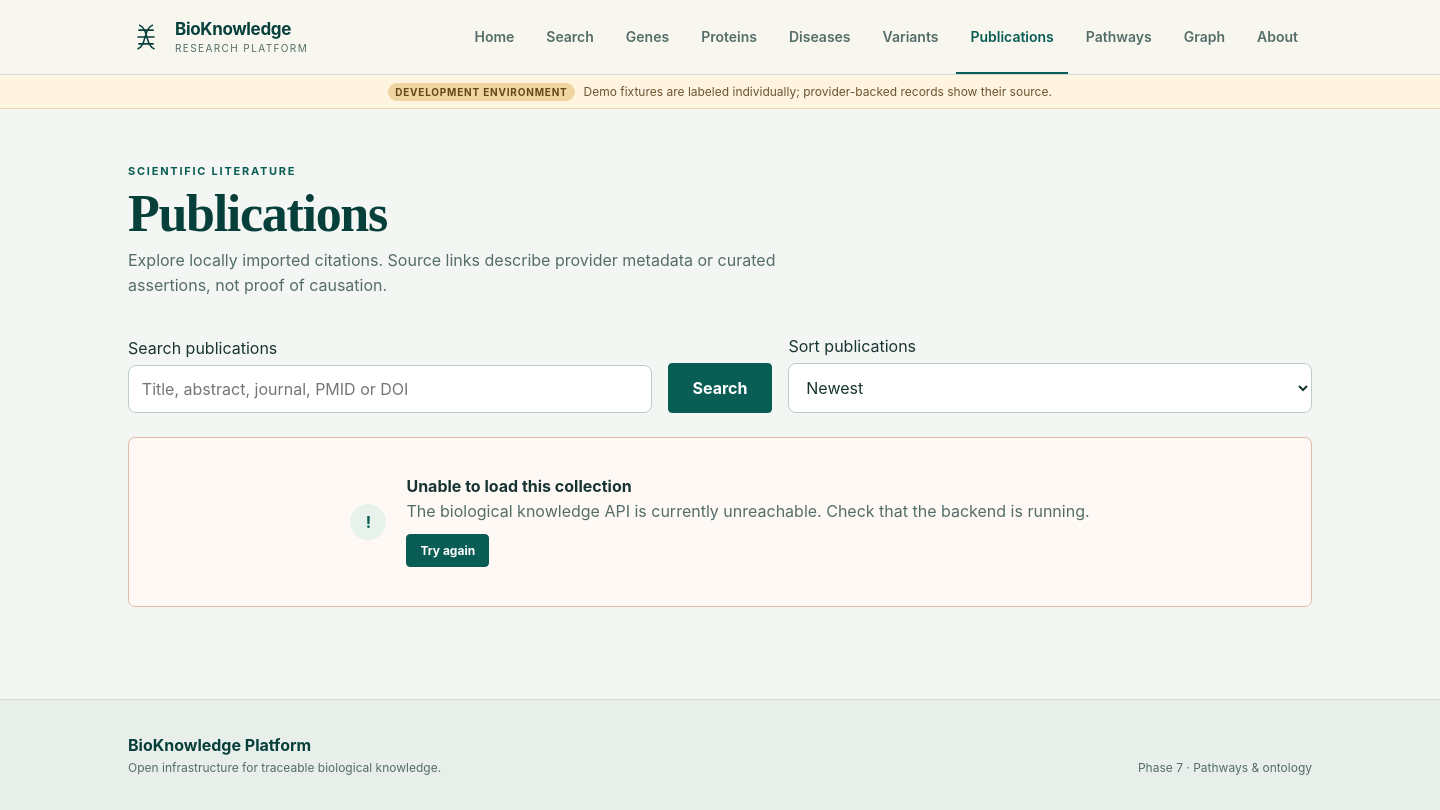
Test: publication empty and failure states are actionable
Check: the text "Unable to load this collection" is shown, box [406,476,632,496]
Click the button "Try again" at (448, 551), box [406,534,489,567]
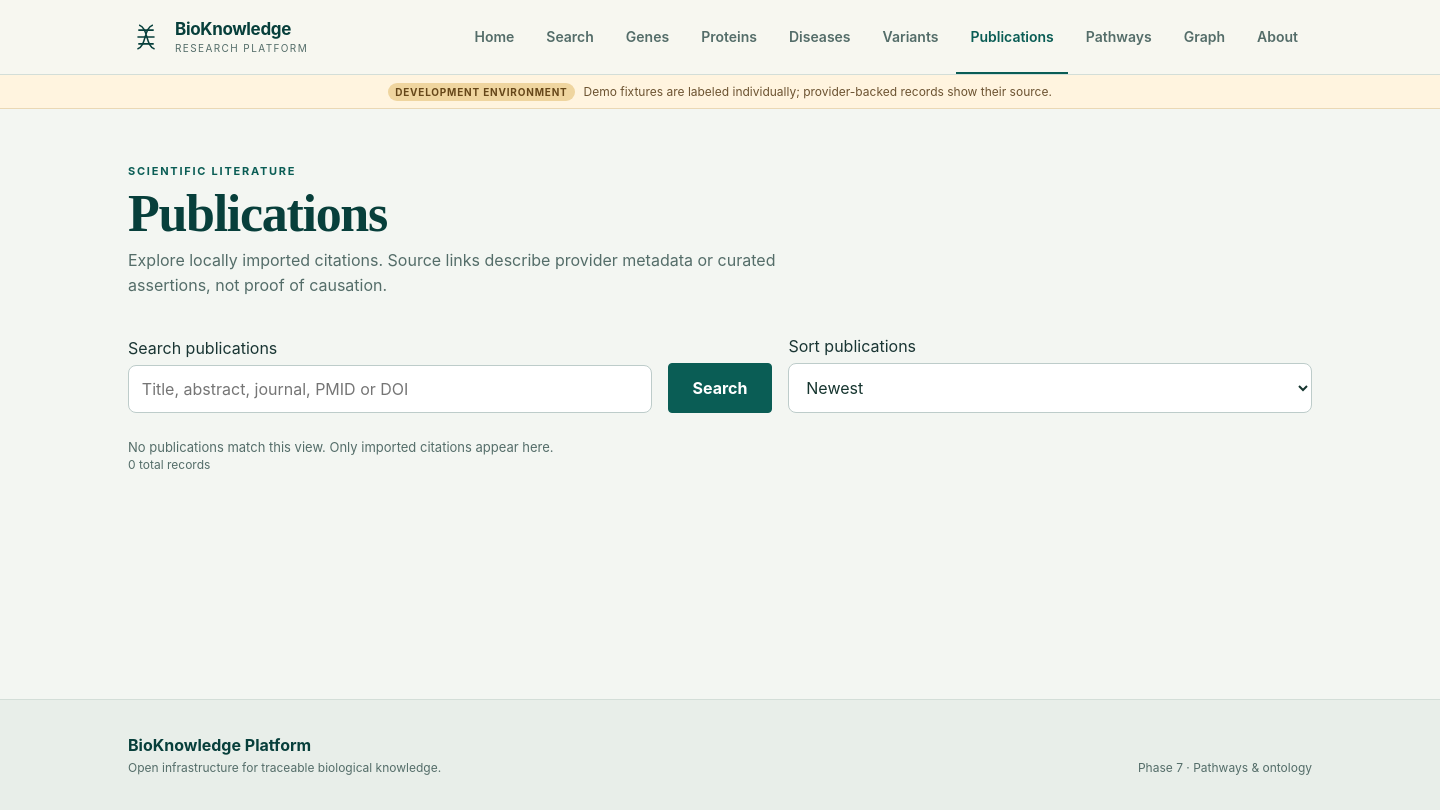
Check: the text "No publications match this view. Only imported citations appear here." is shown, box [128,439,554,455]
